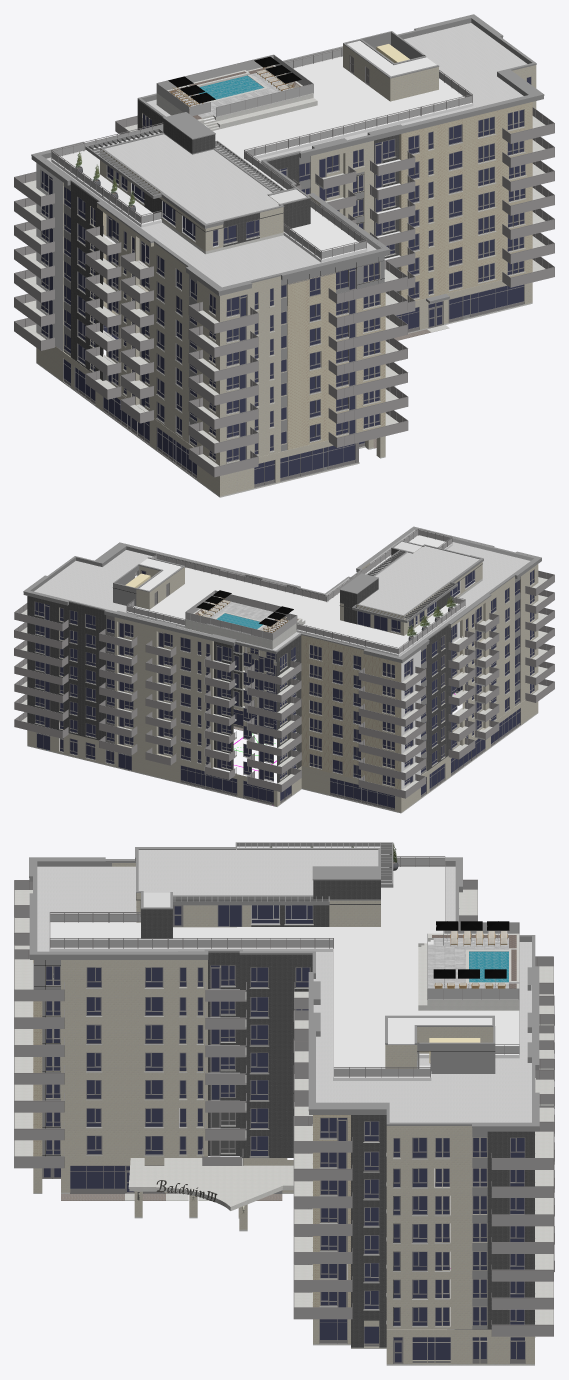
The model's file is building.glb.
3 views of the same model, one above another, from view 1: azimuth 30°, elevation 25°; view 2: azimuth 150°, elevation 25°; view 3: azimuth 270°, elevation 25° (orthographic). The views are drawn at different scales.
Parts seen in each view (by area): view 1: Group1, Group3132, Group3133, Group1363, Group806, Group792, Group3134, Group2111, Group1367, Group397, Group1134, Group1194 (+7 smaller); view 2: Group1, Group3132, Group3133, Group1363, Group3134, Group806, Group397, Group1367, Group2598, Group3125, Group3105, Group3115 (+16 smaller); view 3: Group1, Group3133, Group3132, Group1363, Group2178, Group397, Group3134, Group806, Group2111, Group2116, Group1376, Group3137 (+16 smaller).
Boxes of the visible parts, x1,y1,x2,y2 form: Group1: (36,14,544,497); Group3132: (100,112,284,254); Group3133: (51,56,473,262); Group1363: (156,65,317,130); Group806: (376,55,439,101); Group792: (470,284,524,318); Group3134: (343,38,394,90); Group2111: (267,187,310,228); Group1367: (158,55,273,90); Group397: (361,31,425,59); Group1134: (337,301,407,327); Group1194: (337,373,407,399); Group1: (23,526,538,813); Group3132: (339,544,483,635); Group3133: (126,535,465,656); Group1363: (185,601,305,649); Group3134: (136,570,174,609); Group806: (138,557,185,590); Group397: (113,565,139,606); Group1367: (185,612,272,639); Group2598: (330,778,361,802); Group3125: (205,774,237,796); Group3105: (243,780,273,805); Group3115: (180,765,205,788); Group1: (29,859,539,1365); Group3133: (49,866,519,1080); Group3132: (135,847,380,927); Group1363: (418,933,519,1010); Group2178: (128,1158,293,1210); Group397: (417,1026,495,1073); Group3134: (417,1015,494,1053); Group806: (385,1015,416,1068); Group2111: (140,892,172,938); Group2116: (412,1337,451,1363); Group1376: (428,989,518,999); Group3137: (235,842,393,887).
Bounding box in the file's own units: 25.74 × 12.35 × 21.11.
43 materials, 19 textured.
